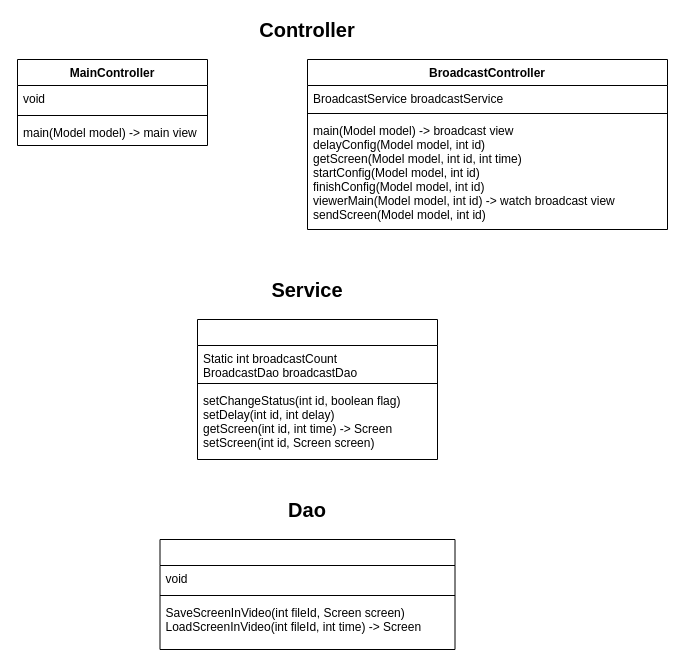
The diagram is 685 pixels wide and 669 high, and some of its shapes have lost their labels. Here are the shapes that lost their labels. From the top down, the box of each, then its label:
(196, 318, 438, 460): BroadcastService
(159, 538, 455, 650): BroadcastDao
